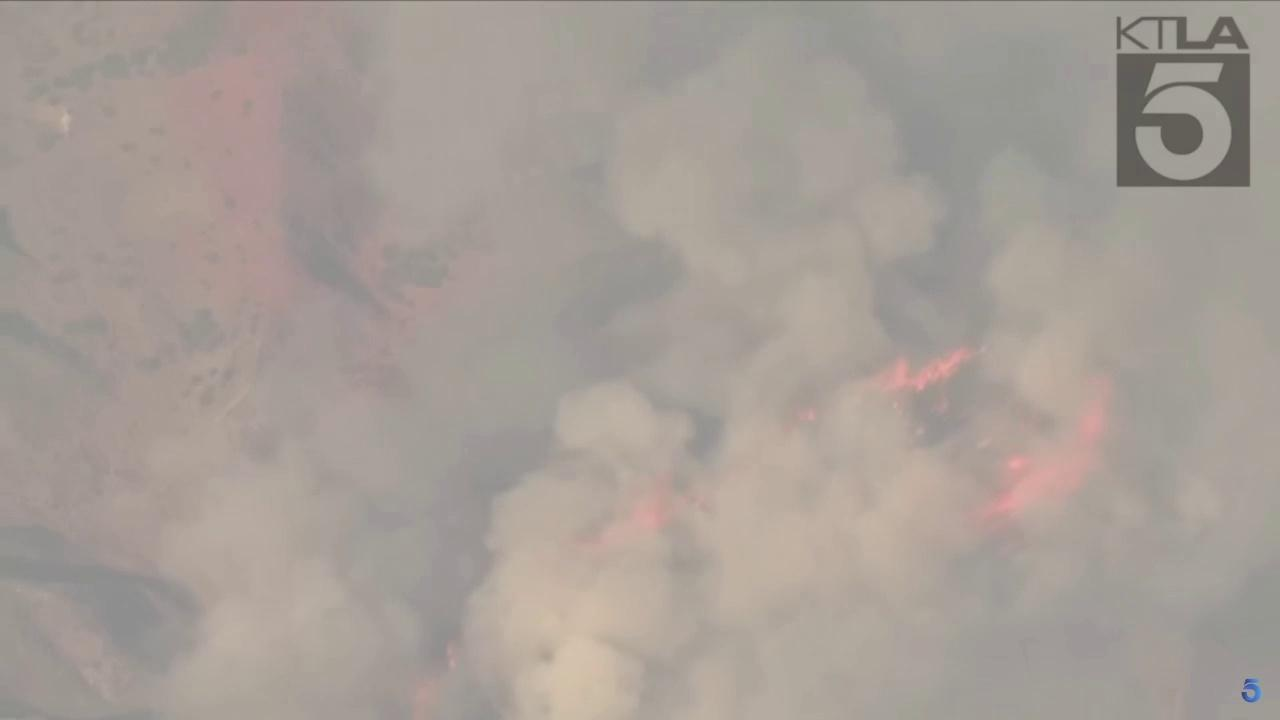fire: (960, 374, 1110, 545), (893, 346, 975, 395), (634, 493, 676, 537), (795, 405, 819, 425), (446, 641, 460, 675)
smoke: (103, 0, 1280, 720)
